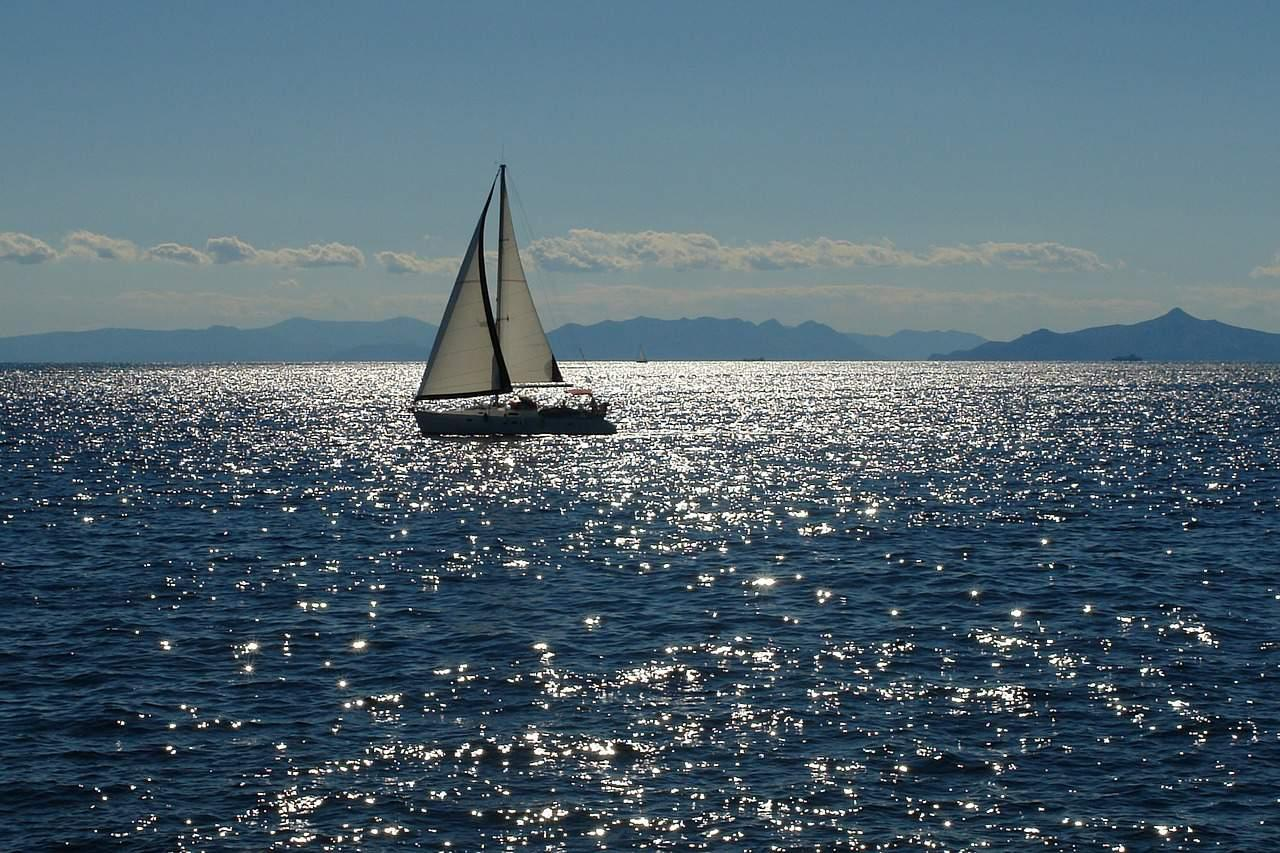Ship: (405, 167, 616, 439)
